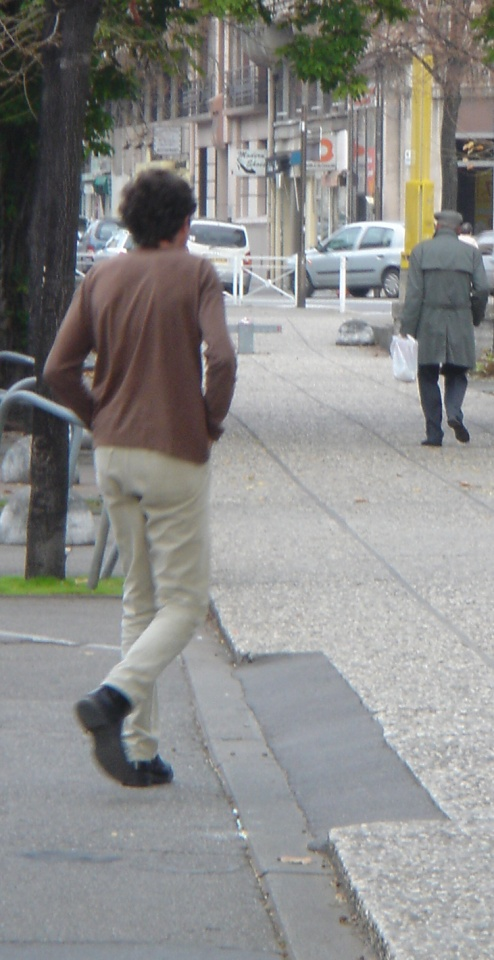person: (64, 167, 235, 780)
